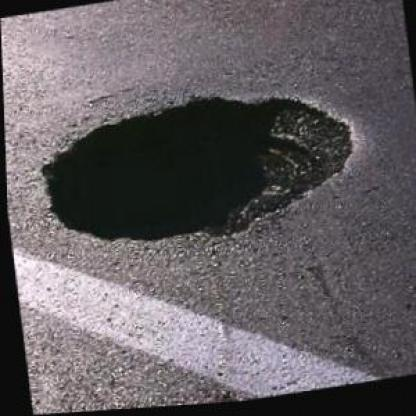pothole: (28, 69, 369, 268)
